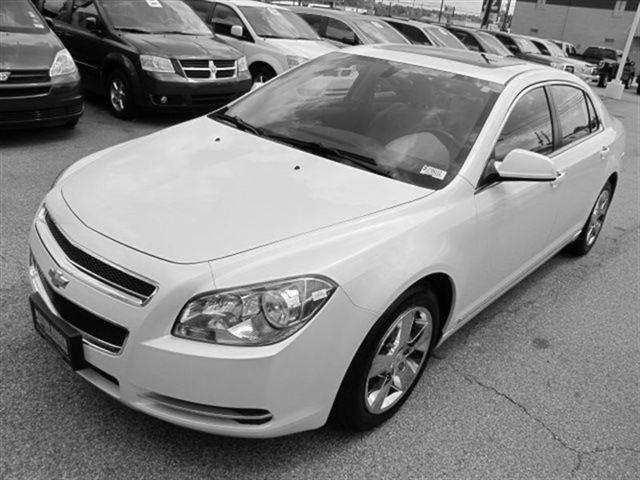car: (27, 45, 628, 441)
